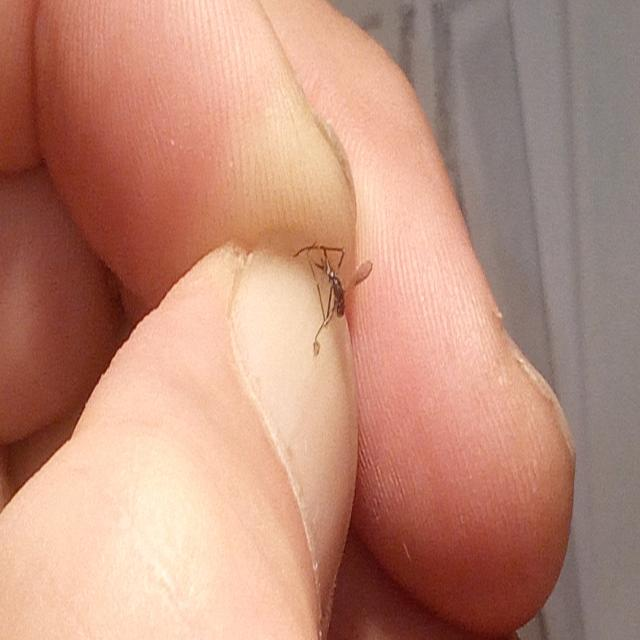albopictus: (292, 221, 372, 360)
